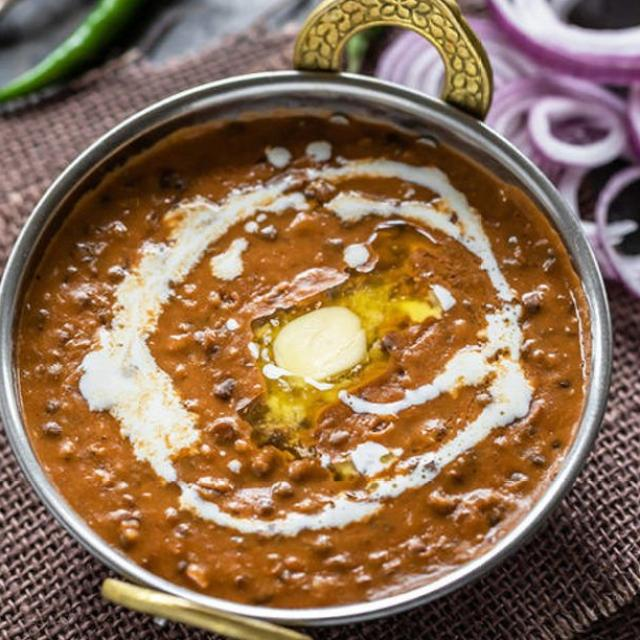dal_makhani: (17, 124, 603, 576)
